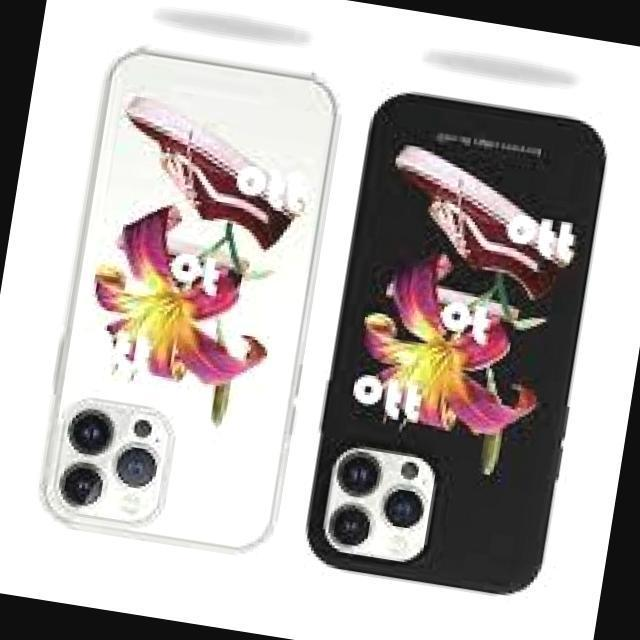lens: (54, 399, 165, 518), (328, 447, 430, 555)
phone: (40, 48, 338, 562), (310, 91, 614, 594)
